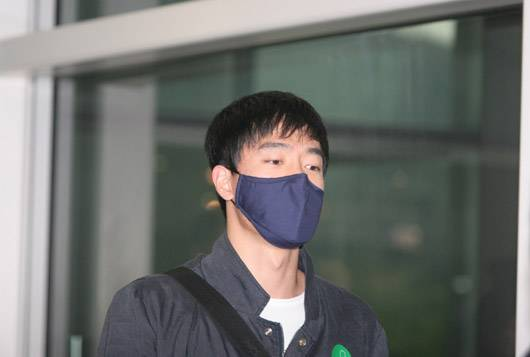face_mask: (230, 118, 328, 232)
